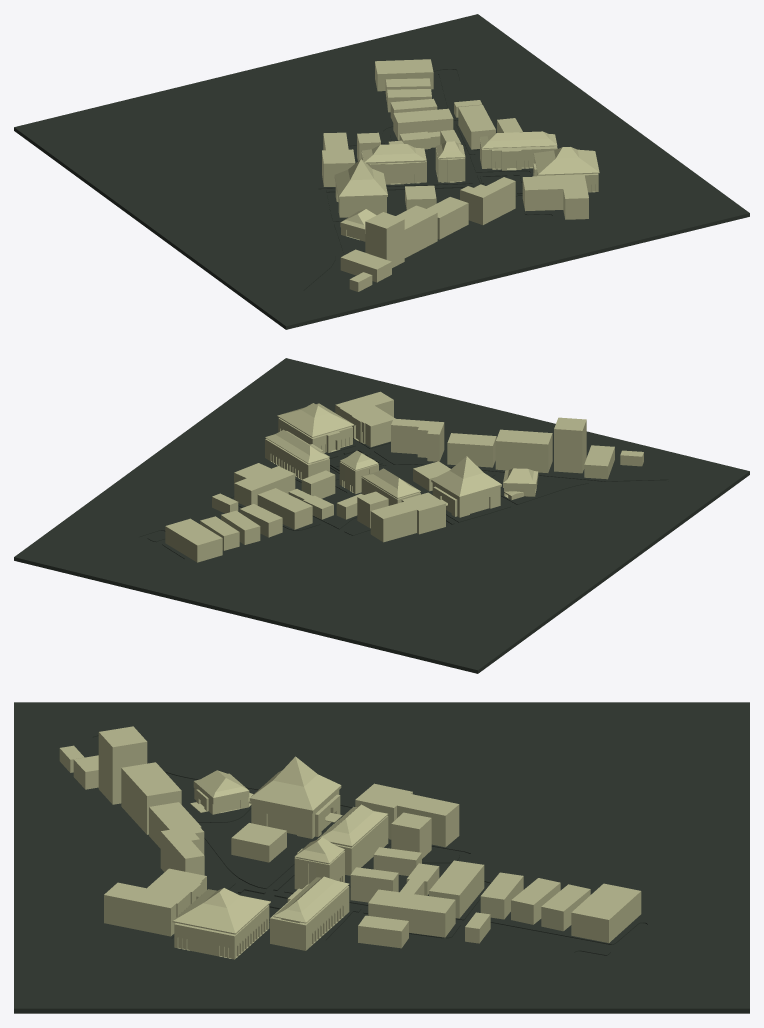
The model's file is kampus1.glb.
3 views of the same model, one above another, from view 1: azimuth 30°, elevation 25°; view 2: azimuth 150°, elevation 25°; view 3: azimuth 270°, elevation 25° (orthographic). The views are drawn at different scales.
Parts seen in each view (by area): view 1: walkable, building.011, building.001, building.003, building.013, building.002, building.010, building.007, building.008, building.020, building.016, building.026 (+10 smaller); view 2: walkable, building.003, building.016, building.002, building.008, building.011, building.001, building.010, building.026, building.007, building.018, building.009 (+12 smaller); view 3: walkable, building.002, building.003, building.011, building.001, building.016, building.026, building.018, building.013, building.008, building.007, building.010 (+15 smaller).
Boxes of the visible parts, x1,y1,x2,y2 form: walkable: (14, 14, 749, 329); building.011: (522, 175, 588, 219); building.001: (479, 131, 557, 170); building.003: (334, 159, 387, 217); building.013: (361, 144, 426, 184); building.002: (533, 147, 599, 192); building.010: (460, 177, 515, 224); building.007: (365, 212, 404, 267); building.008: (396, 205, 437, 257); building.020: (393, 108, 453, 140); building.016: (322, 132, 355, 186); building.026: (375, 59, 433, 91); walkable: (14, 358, 749, 673); building.003: (431, 456, 501, 517); building.016: (370, 492, 445, 542); building.002: (277, 403, 354, 452); building.008: (495, 429, 552, 472); building.011: (335, 391, 395, 447); building.001: (265, 429, 329, 479); building.010: (391, 418, 444, 461); building.026: (165, 518, 222, 562); building.007: (554, 417, 586, 473); building.018: (234, 466, 295, 506); building.009: (447, 433, 496, 467); walkable: (14, 702, 749, 1013); building.002: (172, 888, 270, 959); building.003: (249, 756, 342, 838); building.011: (104, 868, 206, 936); building.001: (270, 876, 349, 950); building.016: (355, 783, 459, 847); building.026: (571, 883, 641, 942); building.018: (368, 889, 455, 937); building.013: (317, 804, 388, 875); building.008: (121, 762, 181, 834); building.007: (98, 726, 147, 804); building.010: (160, 825, 204, 875).
Bounding box in the file's own units: 234 × 25.97 × 238.
